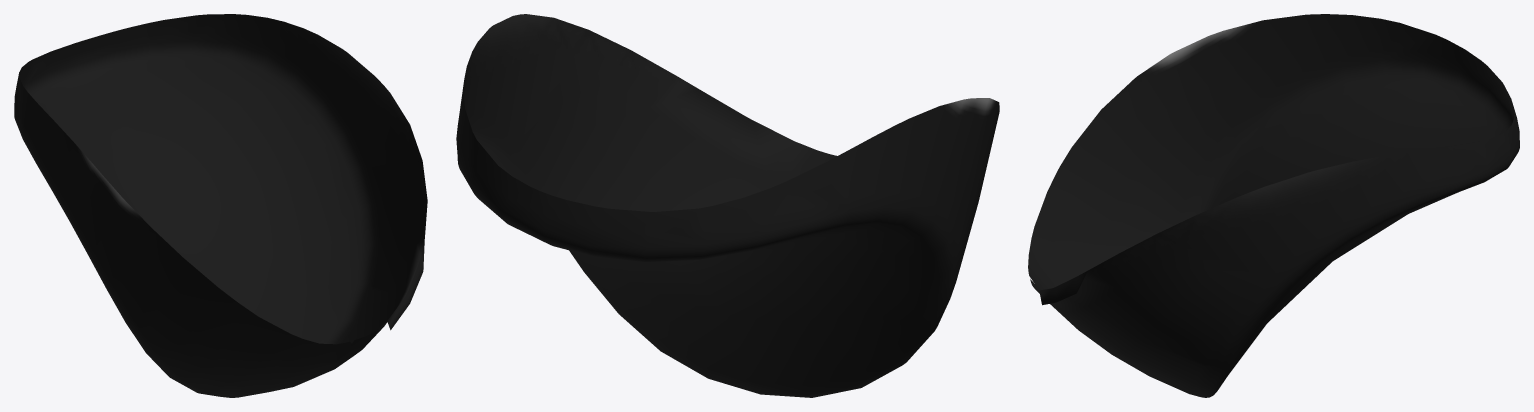
File: trigger.obj
3 views of the same model, side by side, from view 1: azimuth 30°, elevation 25°; view 2: azimuth 150°, elevation 25°; view 3: azimuth 270°, elevation 25° (orthographic). The views are drawn at different scales.
Visible parts, largest first — view 1: trigger_r_body.004; view 2: trigger_r_body.004; view 3: trigger_r_body.004.
Part boxes in pixels (x1=…): trigger_r_body.004: x1=14, y1=14, x2=427, y2=397; trigger_r_body.004: x1=456, y1=14, x2=999, y2=397; trigger_r_body.004: x1=1028, y1=14, x2=1519, y2=397.
Size of the model in its own units: 0.0207 by 0.0176 by 0.0271.
1 material, 1 textured.
